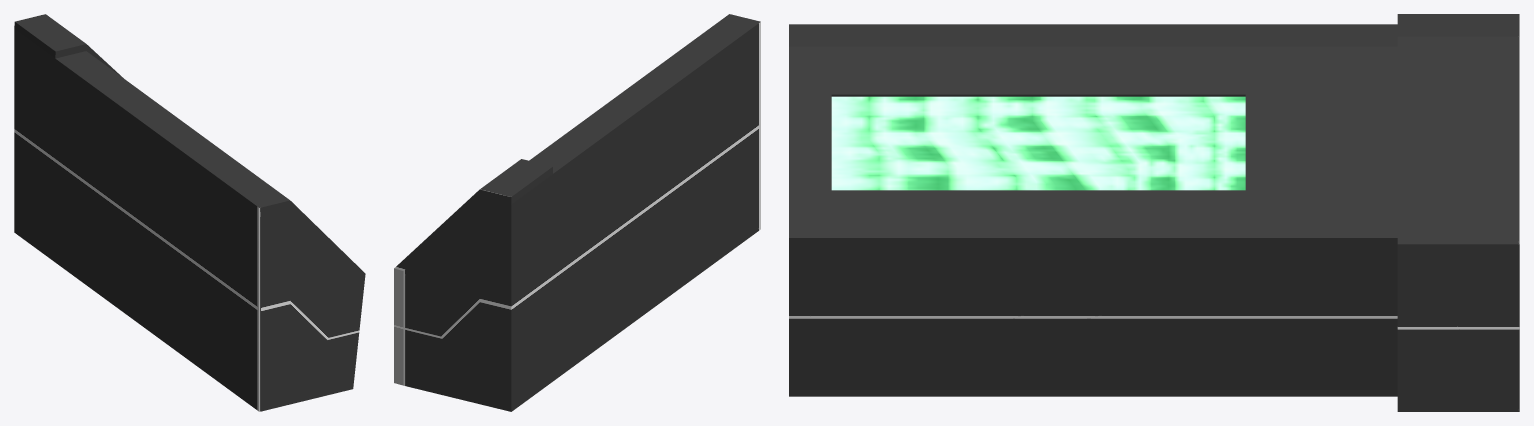
The model's file is time_clock_small.gltf.
3 views of the same model, side by side, from view 1: azimuth 30°, elevation 25°; view 2: azimuth 150°, elevation 25°; view 3: azimuth 270°, elevation 25° (orthographic). The views are drawn at different scales.
Parts seen in each view (by area): view 1: TimeClockBody; view 2: TimeClockBody; view 3: TimeClockBody, TimeClockFace.
Part boxes in pixels (bbox=[...]): TimeClockBody: bbox=[14, 14, 365, 411]; TimeClockBody: bbox=[394, 14, 760, 411]; TimeClockBody: bbox=[789, 14, 1519, 411]; TimeClockFace: bbox=[831, 96, 1245, 190].
Bounding box in the file's own units: 0.5435 × 0.9499 × 2.
2 materials, 2 textured.
